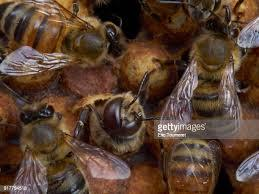worker-bee: (10, 104, 130, 193), (160, 19, 241, 137), (0, 0, 122, 77), (73, 72, 153, 155), (164, 139, 221, 193)
